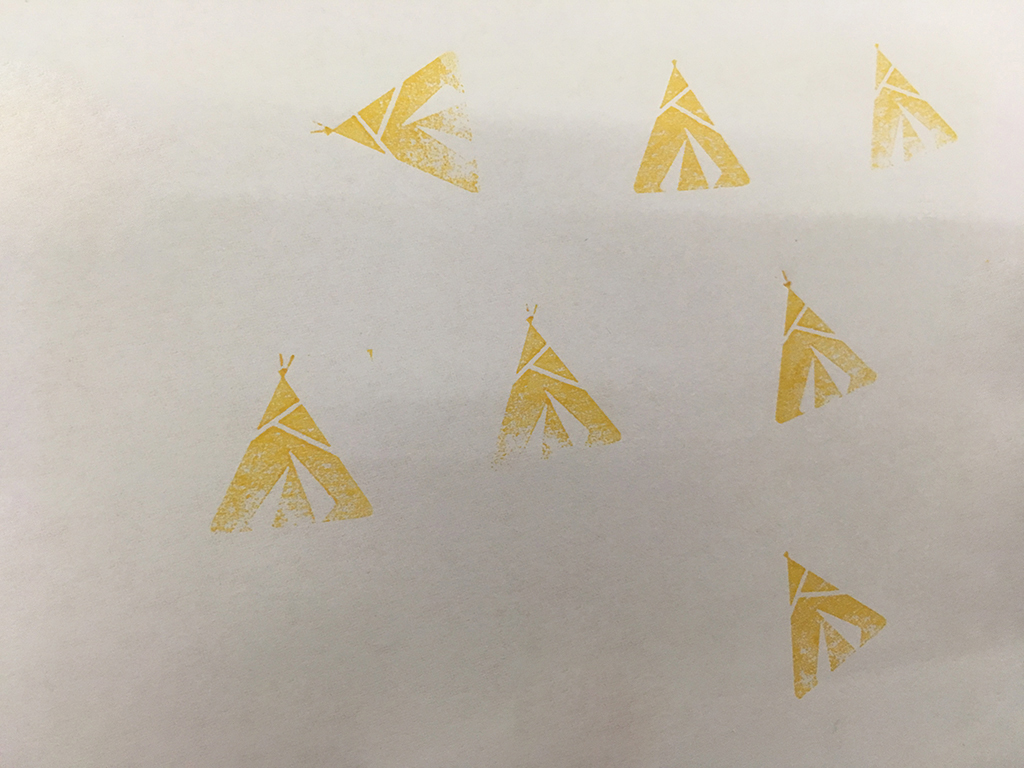tent: (200, 341, 386, 542), (465, 289, 635, 482), (306, 39, 488, 202), (767, 536, 894, 707), (767, 261, 890, 434), (627, 52, 754, 194), (860, 38, 970, 182)
